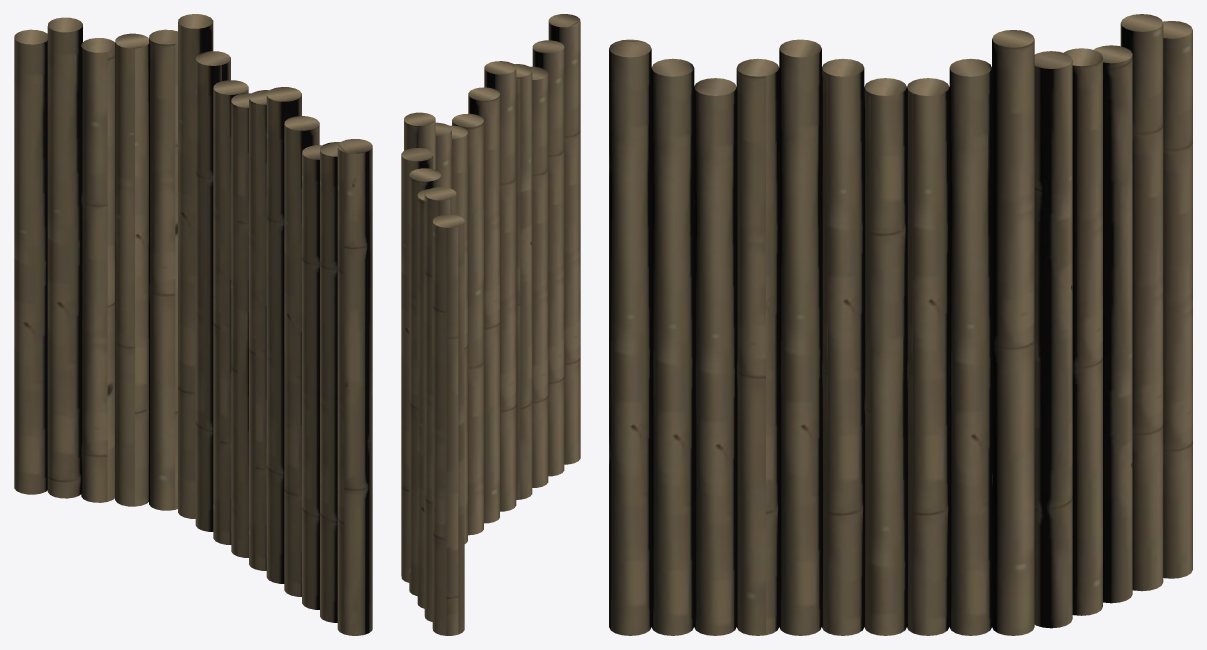
3 views of the same model, side by side, from view 1: azimuth 30°, elevation 25°; view 2: azimuth 150°, elevation 25°; view 3: azimuth 270°, elevation 25° (orthographic). The views are drawn at different scales.
Parts seen in each view (by area): view 1: body0_model0_lod0_mesh0; view 2: body0_model0_lod0_mesh0; view 3: body0_model0_lod0_mesh0.
Boxes of the visible parts, box(x1,y1,x2,y2) form: body0_model0_lod0_mesh0: box(14, 14, 372, 635); body0_model0_lod0_mesh0: box(401, 14, 580, 635); body0_model0_lod0_mesh0: box(609, 14, 1192, 635).
Bounding box in the file's own units: 66.91 × 244 × 220.
1 material, 1 textured.
